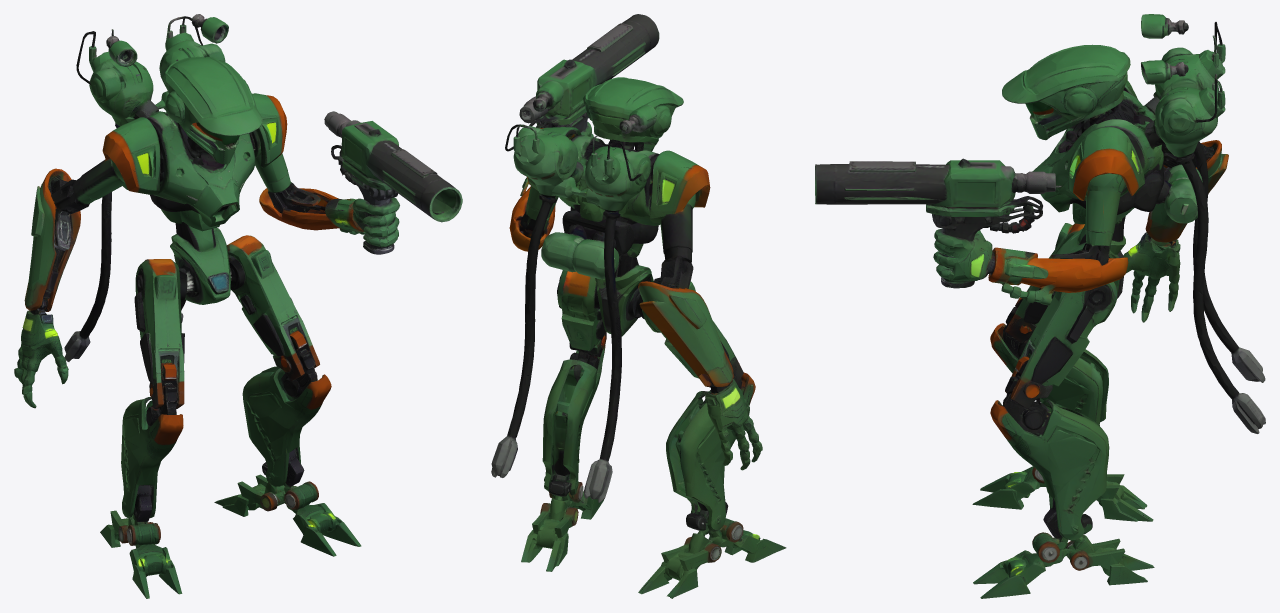
Rendered from en03_jungle_sniper.fbx.
3 views of the same model, side by side, from view 1: azimuth 30°, elevation 25°; view 2: azimuth 150°, elevation 25°; view 3: azimuth 270°, elevation 25° (orthographic). The views are drawn at different scales.
Visible parts, largest first — view 1: Mesh_0; view 2: Mesh_0; view 3: Mesh_0.
Part boxes in pixels (x1,y1,x2,y2): Mesh_0: (14,14,462,598); Mesh_0: (491,14,786,598); Mesh_0: (815,14,1265,598).
Size of the model in its own units: 113 by 180 by 146.
Materials: 1 (1 with a texture image).
